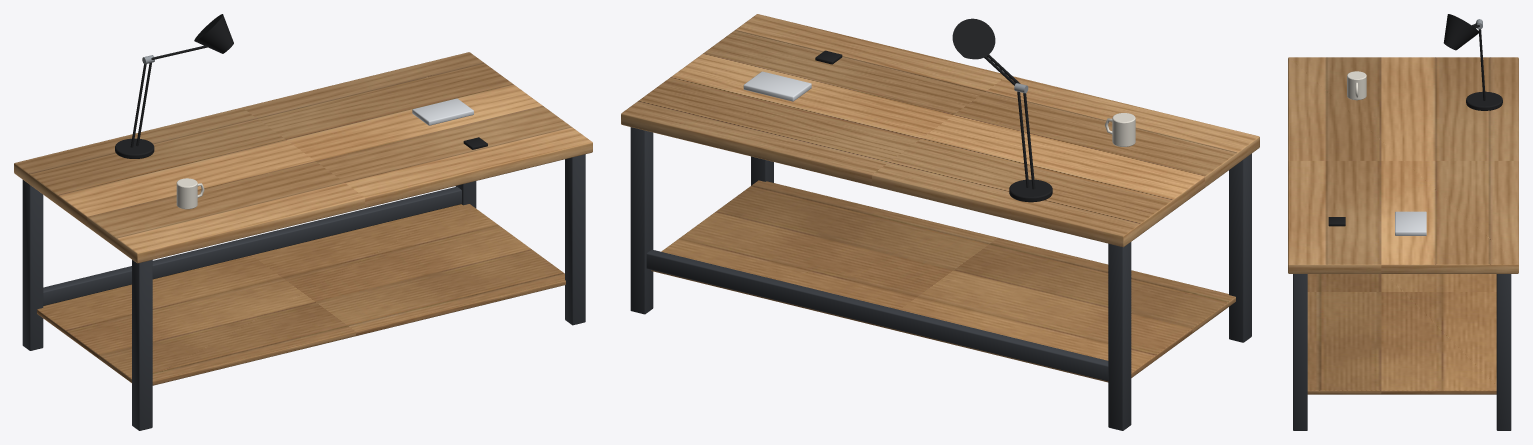
The model's file is bench.glb.
The picture shows the model from 3 angles, left to right: view 1: azimuth 30°, elevation 25°; view 2: azimuth 150°, elevation 25°; view 3: azimuth 270°, elevation 25°; orthographic projection. The views are drawn at different scales.
Parts seen in each view (by area): view 1: bench-top, bench-shelf, bench-rail, bench-leg, bench-leg.002, bench-leg.001, tray, lamp-shade, lamp-base, mug; view 2: bench-top, bench-shelf, bench-rail, bench-leg.002, bench-leg.003, bench-leg, lamp-shade, tray, lamp-base, mug; view 3: bench-top, bench-shelf, bench-leg.003, bench-leg.001, lamp-shade, tray, lamp-base, mug.
Part boxes in pixels (<box>): bench-top: <box>14,52,592,263</box>; bench-shelf: <box>37,204,565,385</box>; bench-rail: <box>43,186,461,305</box>; bench-leg: <box>132,260,152,430</box>; bench-leg.002: <box>22,180,43,350</box>; bench-leg.001: <box>565,154,585,325</box>; tray: <box>412,98,473,125</box>; lamp-shade: <box>194,14,233,53</box>; lamp-base: <box>115,138,154,158</box>; mug: <box>176,178,197,209</box>; bench-top: <box>621,14,1259,247</box>; bench-shelf: <box>651,180,1235,382</box>; bench-rail: <box>646,249,1108,381</box>; bench-leg.002: <box>1108,242,1131,430</box>; bench-leg.003: <box>630,127,653,314</box>; bench-leg: <box>1229,153,1251,342</box>; lamp-shade: <box>952,18,995,59</box>; tray: <box>743,71,811,101</box>; lamp-base: <box>1009,179,1052,202</box>; mug: <box>1112,113,1135,146</box>; bench-top: <box>1288,57,1518,273</box>; bench-shelf: <box>1307,274,1496,394</box>; bench-leg.003: <box>1496,274,1511,430</box>; bench-leg.001: <box>1293,274,1307,430</box>; lamp-shade: <box>1443,14,1479,50</box>; tray: <box>1395,211,1426,235</box>; lamp-base: <box>1466,91,1502,110</box>; mug: <box>1347,71,1366,100</box>.
Size of the model in its own units: 2 by 1.3 by 0.94.
Materials: 8 (2 with a texture image).
